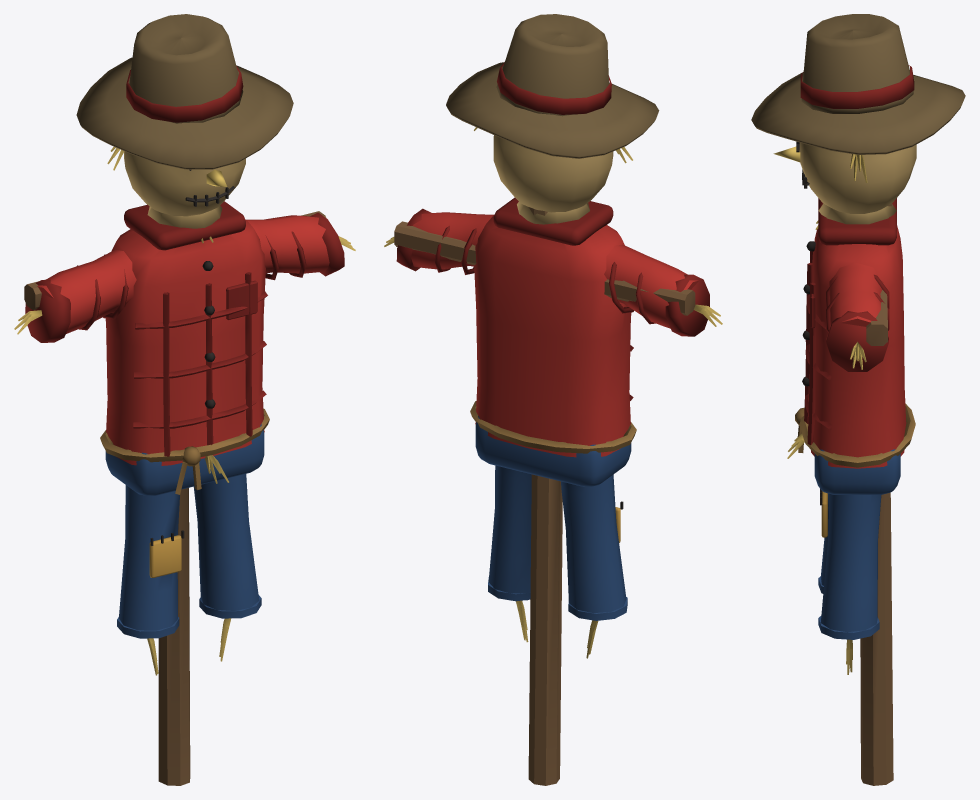
Rendered from scarecrow.glb.
3 renders of one model, left to right at view 1: azimuth 30°, elevation 25°; view 2: azimuth 150°, elevation 25°; view 3: azimuth 270°, elevation 25°, orthographic.
Visible parts, largest first — view 1: scarecrow; view 2: scarecrow; view 3: scarecrow.
Boxes of the visible parts, x1,y1,x2,y2 form: scarecrow: (14,14,355,785); scarecrow: (384,14,722,785); scarecrow: (751,14,965,785).
Bounding box in the file's own units: 0.995 × 2.12 × 0.5467.
